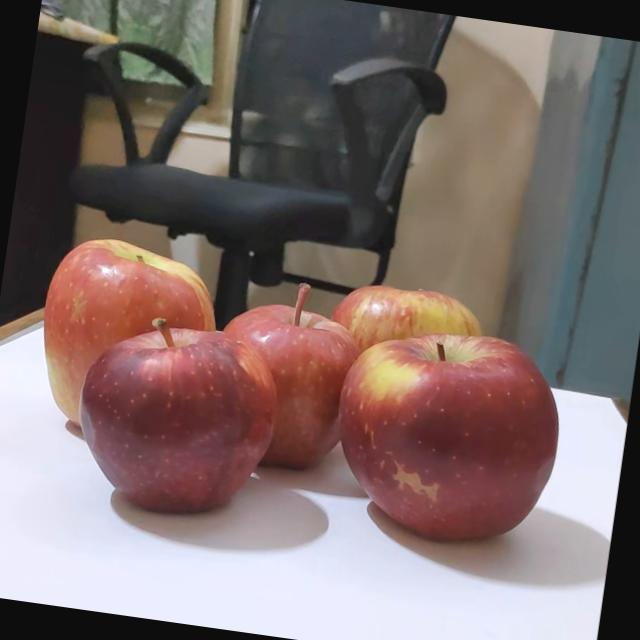apple: (320, 314, 576, 556), (72, 314, 290, 522), (26, 227, 222, 448), (198, 272, 374, 478), (314, 262, 502, 410)
